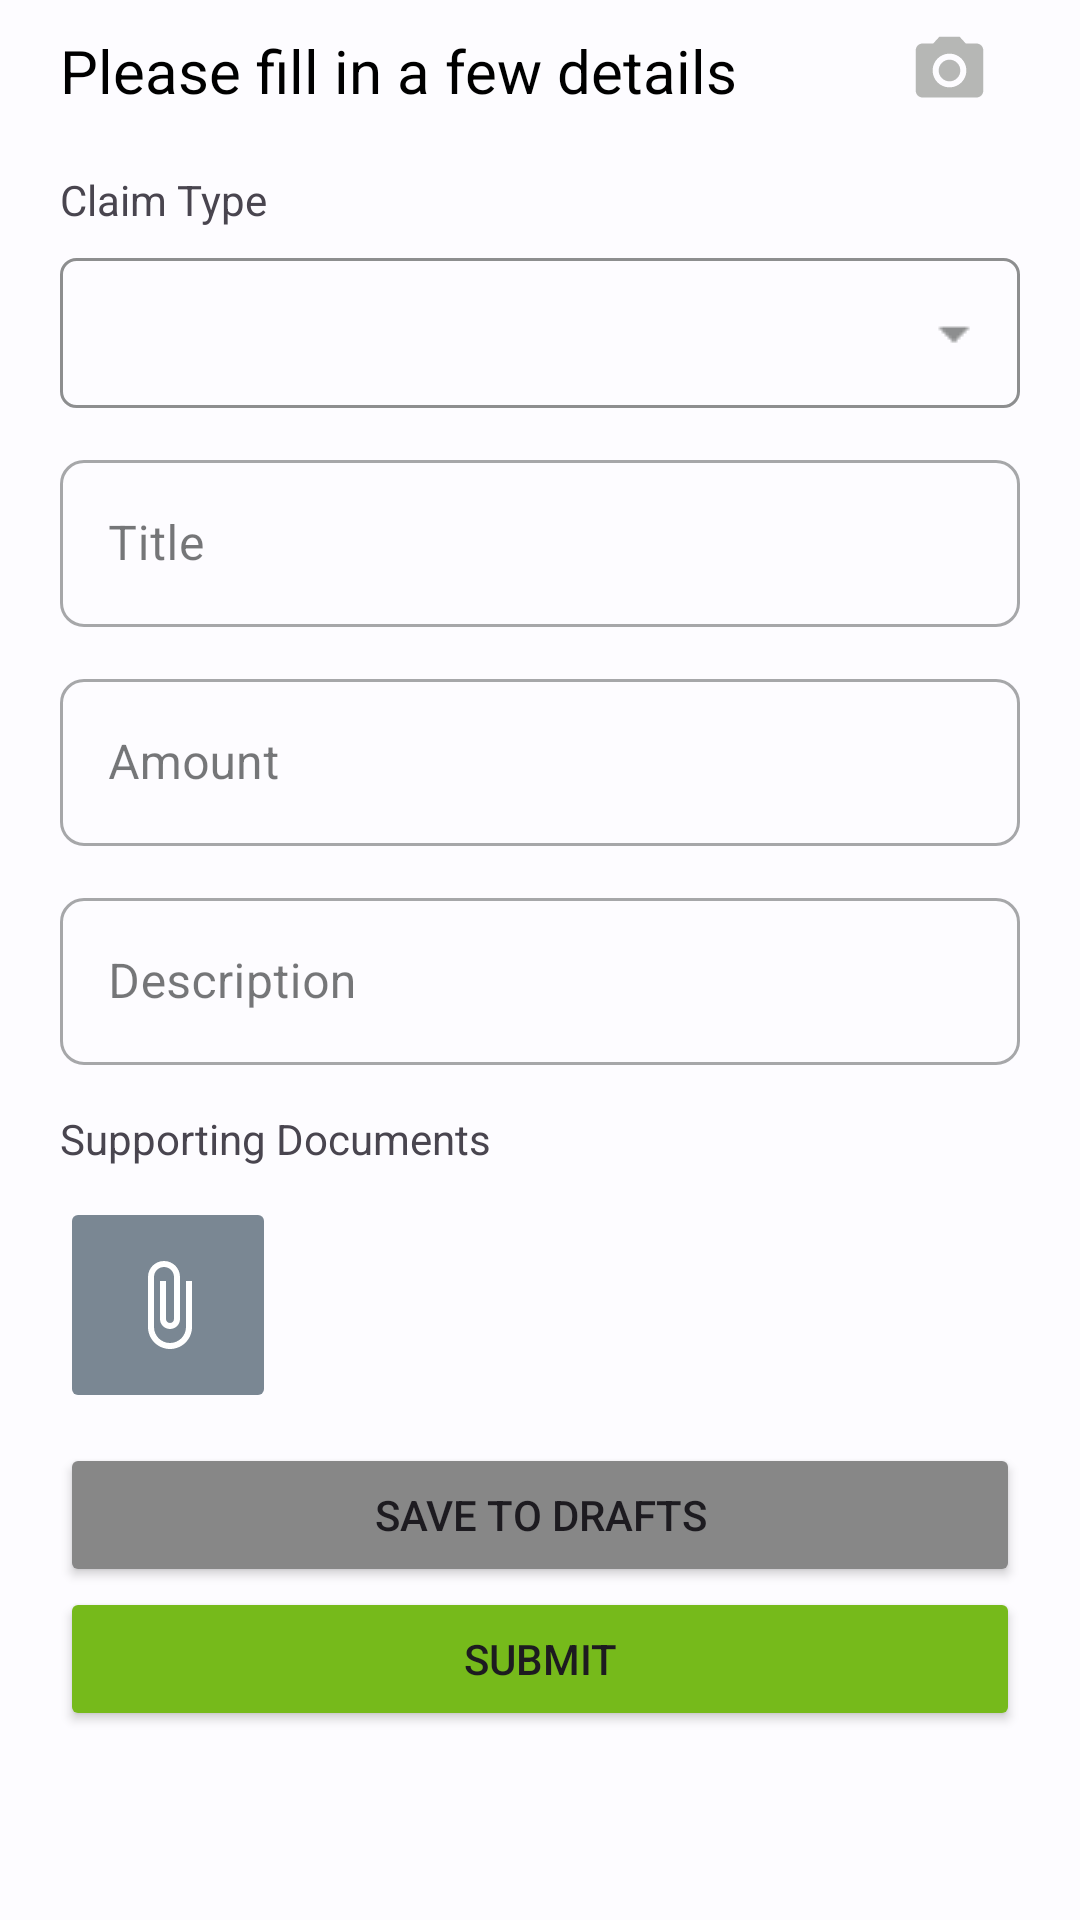

Locate icon controls on the screen. Image size 1080 × 1920, boxes as (x1, y1, x2, y2).
attach file: (72, 1215, 264, 1395)
camera: (916, 37, 983, 98)
